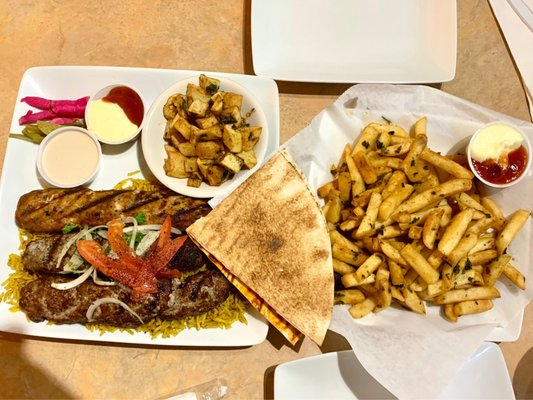soup: (185, 151, 336, 350)
sushi: (139, 72, 280, 200), (467, 122, 533, 196), (35, 126, 102, 190)
